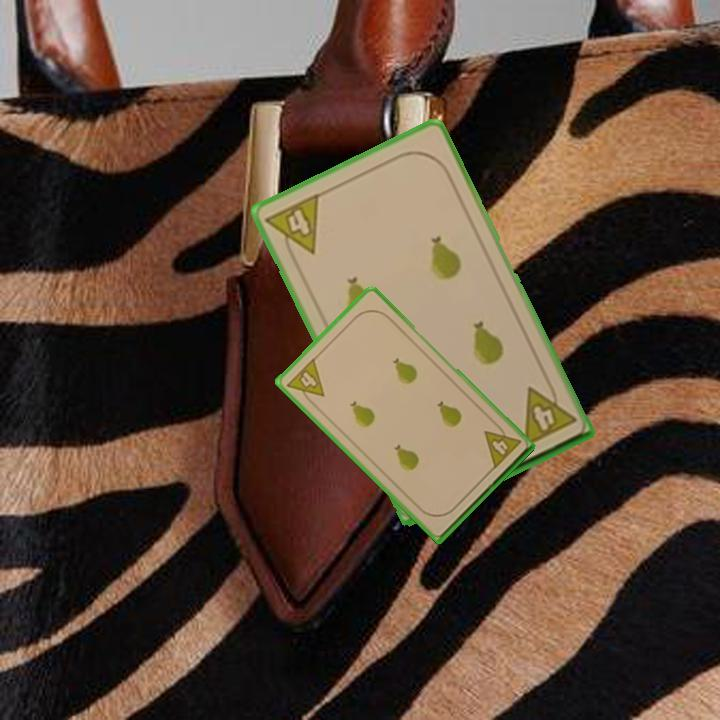4p: (262, 189, 322, 266), (518, 376, 579, 449), (283, 354, 327, 409), (480, 419, 523, 472)
